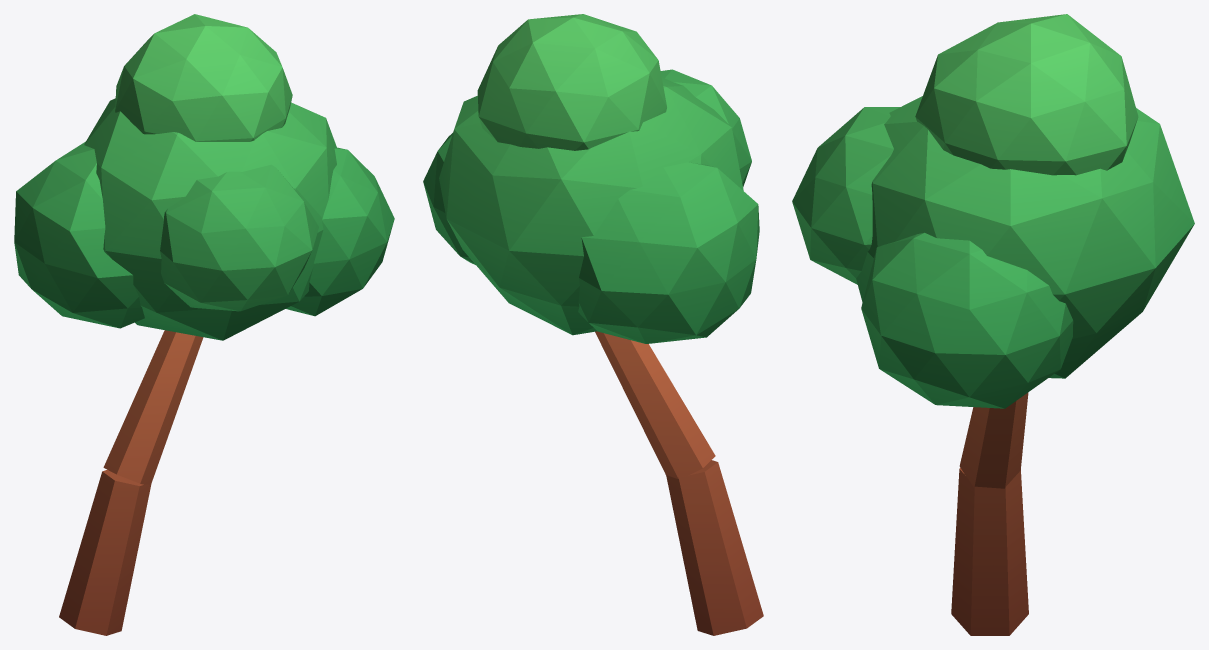
File: arbol_C.glb
The picture shows the model from 3 angles, left to right: view 1: azimuth 30°, elevation 25°; view 2: azimuth 150°, elevation 25°; view 3: azimuth 270°, elevation 25°; orthographic projection. The views are drawn at different scales.
Parts seen in each view (by area): view 1: arbol_C; view 2: arbol_C; view 3: arbol_C.
Boxes of the visible parts, x1,y1,x2,y2 form: arbol_C: (14, 14, 394, 635); arbol_C: (423, 14, 763, 635); arbol_C: (792, 14, 1194, 635).
Bounding box in the file's own units: 2.18 × 3.65 × 1.97.
Materials: 1 (1 with a texture image).
